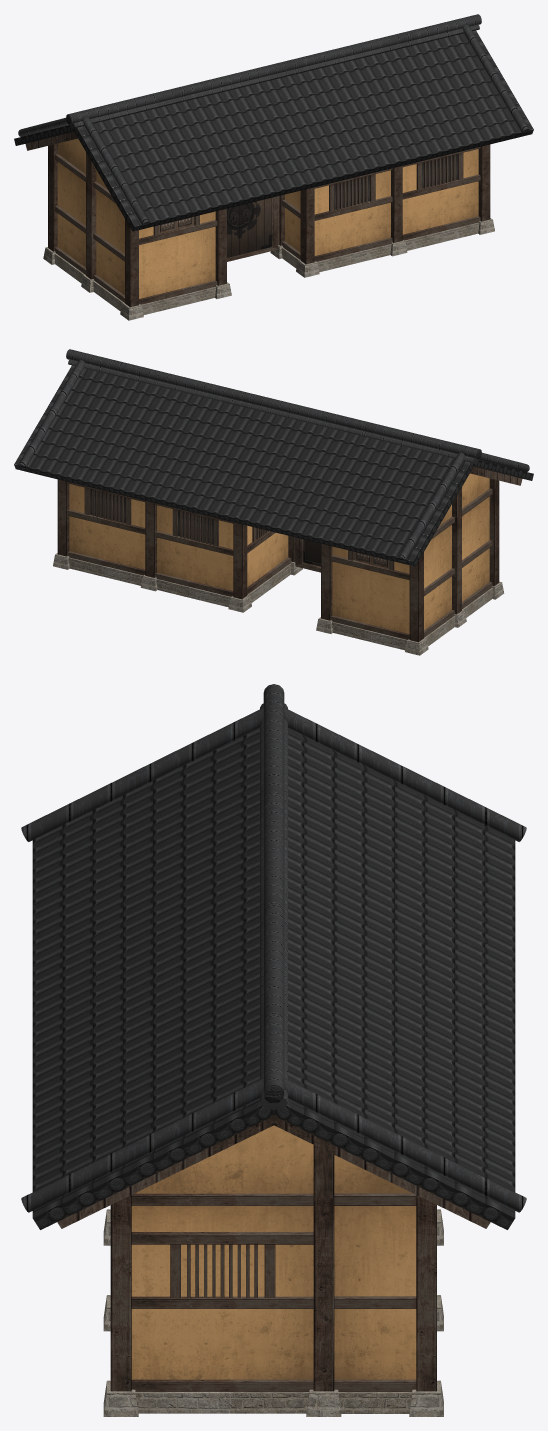
File: KoreanMansion_House_3.FBX
The picture shows the model from 3 angles, top to bottom: view 1: azimuth 30°, elevation 25°; view 2: azimuth 150°, elevation 25°; view 3: azimuth 270°, elevation 25°; orthographic projection. The views are drawn at different scales.
Parts seen in each view (by area): view 1: KoreanMansion_House_3; view 2: KoreanMansion_House_3; view 3: KoreanMansion_House_3.
Boxes of the visible parts, bbox=[...] form: KoreanMansion_House_3: bbox=[14, 14, 533, 320]; KoreanMansion_House_3: bbox=[14, 349, 533, 655]; KoreanMansion_House_3: bbox=[21, 684, 526, 1416].
Size of the model in its own units: 995 by 415 by 530.
